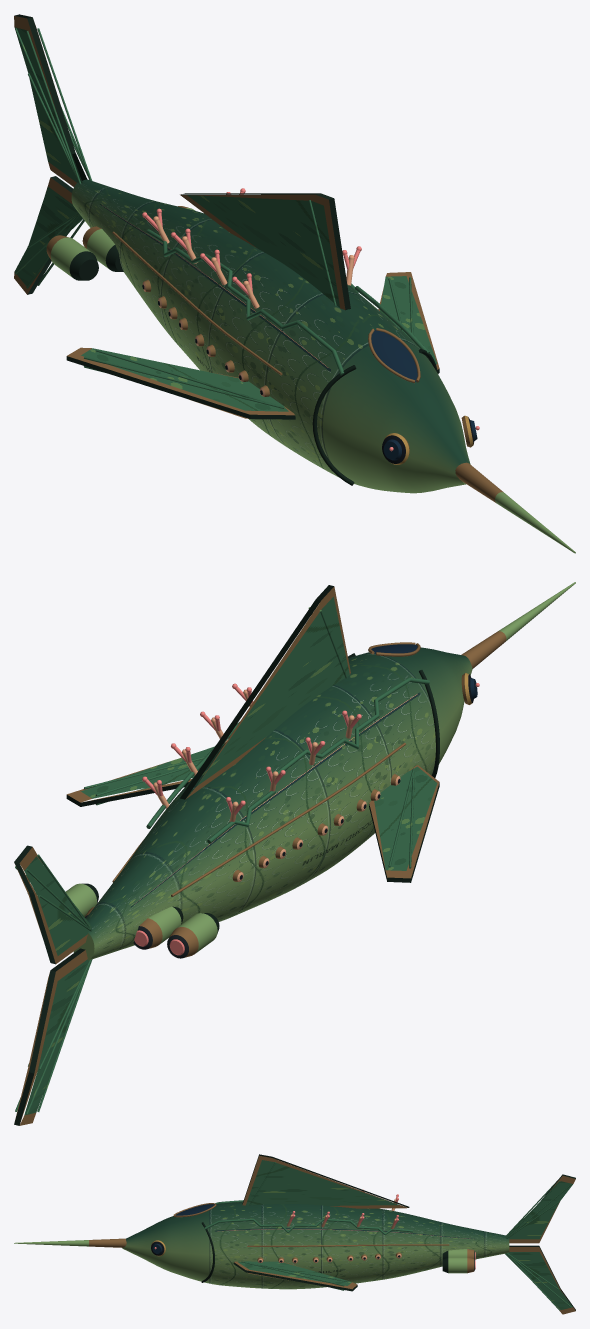
The picture shows the model from 3 angles, top to bottom: view 1: azimuth 30°, elevation 25°; view 2: azimuth 150°, elevation 25°; view 3: azimuth 270°, elevation 25°; orthographic projection. The views are drawn at different scales.
Parts seen in each view (by area): view 1: marlin_hull; view 2: marlin_hull; view 3: marlin_hull.
Boxes of the visible parts, x1,y1,x2,y2 form: marlin_hull: (14,14,575,553); marlin_hull: (14,582,575,1125); marlin_hull: (14,1154,575,1314).
Bounding box in the file's own units: 29.91 × 26.23 × 84.
Materials: 1 (1 with a texture image).
